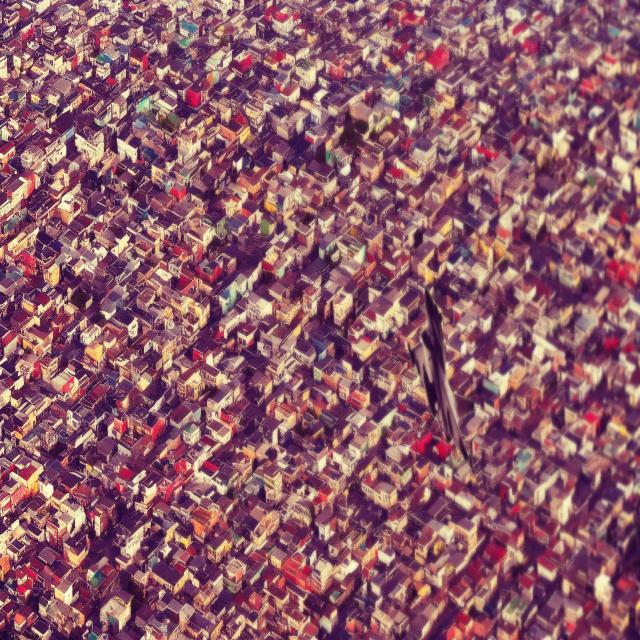airplane: (408, 285, 474, 472)
